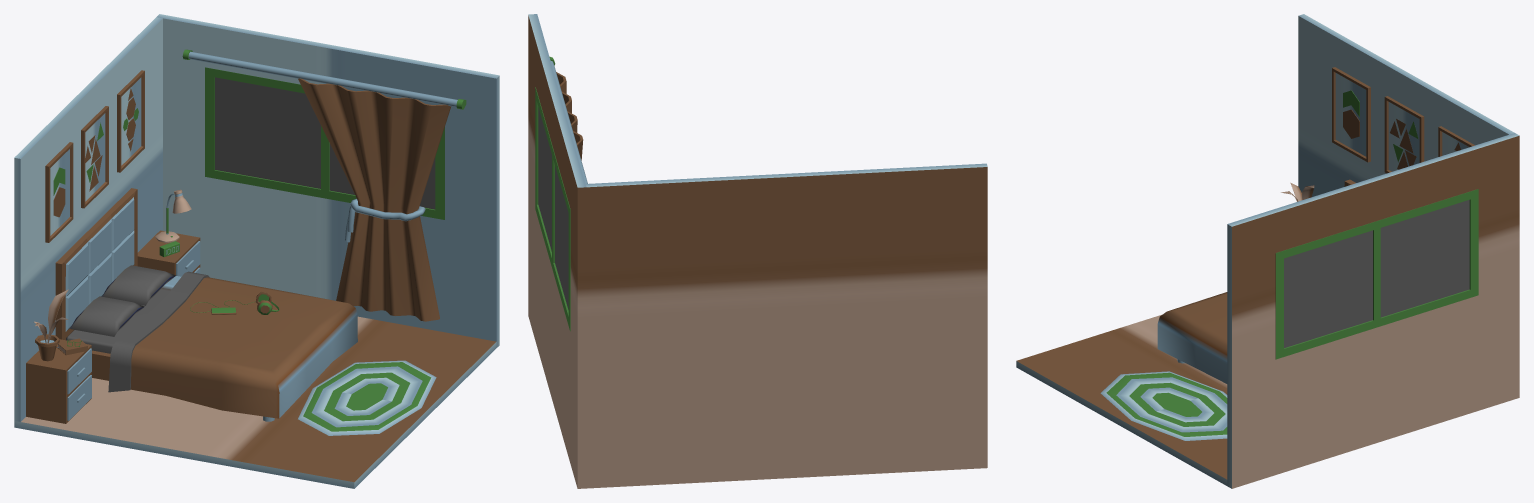
Rendered from Bedroom.fbx.
3 renders of one model, left to right at view 1: azimuth 30°, elevation 25°; view 2: azimuth 150°, elevation 25°; view 3: azimuth 270°, elevation 25°, orthographic. The views are drawn at different scales.
Parts seen in each view (by area): view 1: Bedroom_Base, Bedroom_Blanket, Bedroom_Curtain, Bedroom_Window, Bedroom_Carpet, Bedroom, Bedroom_Basebed, Bedroom_Nightstands, Bedroom_Pillows, Bedroom_Cornice, Bedroom_Mattress, Bedroom_Flower (+2 smaller); view 2: Bedroom_Base, Bedroom_Window, Bedroom_Curtain; view 3: Bedroom_Base, Bedroom_Window, Bedroom_Carpet, Bedroom, Bedroom_Blanket.
Part boxes in pixels (x1=…): Bedroom_Base: x1=14, y1=14, x2=499, y2=488; Bedroom_Blanket: x1=108, y1=271, x2=357, y2=418; Bedroom_Curtain: x1=298, y1=78, x2=451, y2=321; Bedroom_Window: x1=205, y1=67, x2=444, y2=219; Bedroom_Carpet: x1=298, y1=360, x2=436, y2=435; Bedroom: x1=45, y1=70, x2=144, y2=242; Bedroom_Basebed: x1=55, y1=188, x2=274, y2=421; Bedroom_Nightstands: x1=26, y1=230, x2=200, y2=423; Bedroom_Pillows: x1=70, y1=265, x2=175, y2=336; Bedroom_Cornice: x1=182, y1=49, x2=466, y2=109; Bedroom_Mattress: x1=66, y1=276, x2=181, y2=353; Bedroom_Flower: x1=34, y1=289, x2=68, y2=361; Bedroom_Base: x1=528, y1=14, x2=987, y2=488; Bedroom_Window: x1=535, y1=87, x2=570, y2=331; Bedroom_Curtain: x1=556, y1=72, x2=583, y2=160; Bedroom_Base: x1=1016, y1=14, x2=1519, y2=488; Bedroom_Window: x1=1275, y1=189, x2=1478, y2=359; Bedroom_Carpet: x1=1100, y1=371, x2=1227, y2=440; Bedroom: x1=1332, y1=67, x2=1474, y2=173; Bedroom_Blanket: x1=1157, y1=292, x2=1227, y2=383.
Size of the model in its own units: 700 by 402 by 700.
